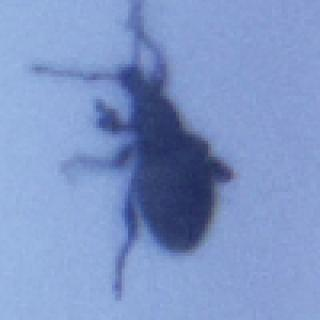bvw: (30, 2, 233, 298)
